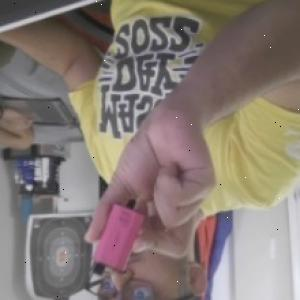Blume-E-Ciggirate: (90, 202, 145, 281)
